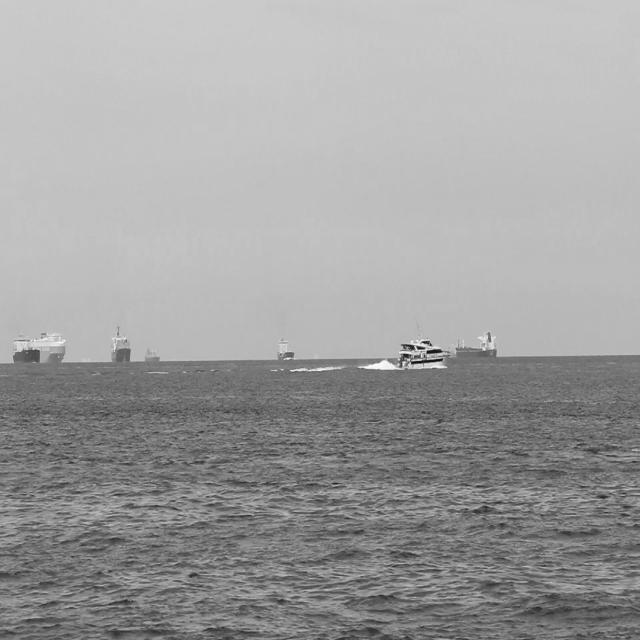ship: (394, 335, 450, 371), (5, 330, 65, 362), (441, 325, 495, 360), (111, 317, 130, 365), (10, 336, 38, 364), (272, 329, 293, 357), (141, 338, 159, 363)
